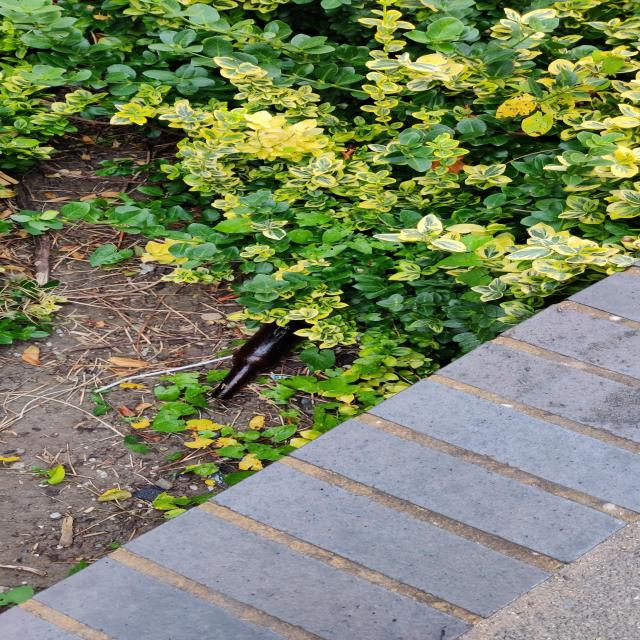litter: (174, 318, 320, 406)
